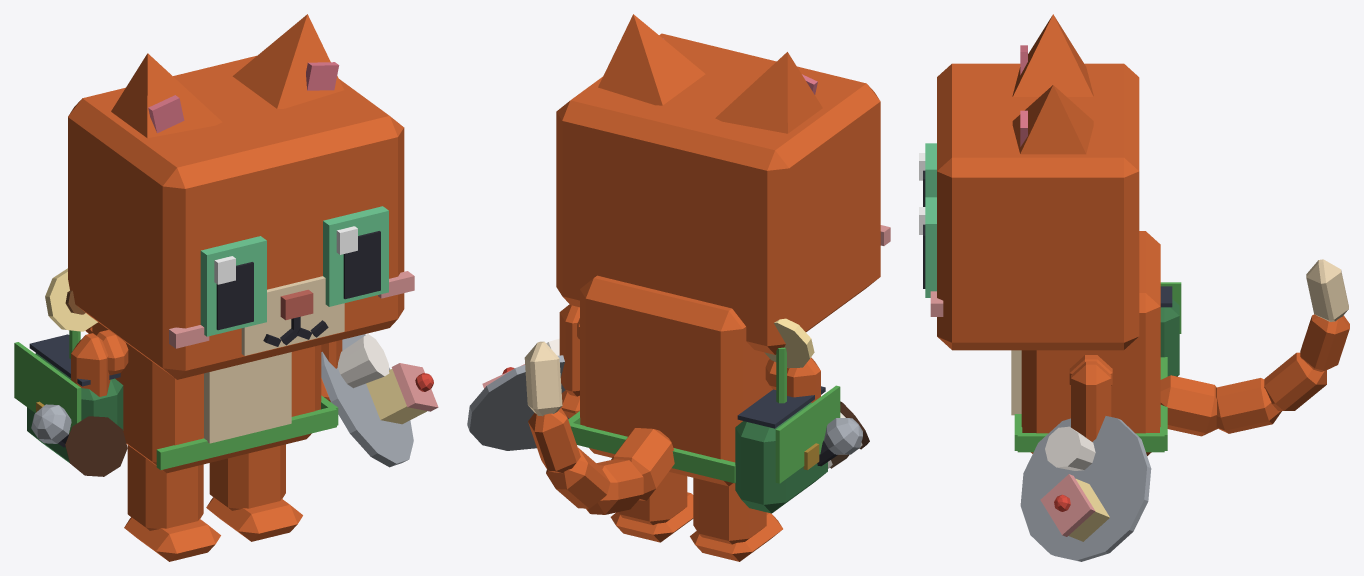
The model's file is CatCafe_Cat_Ginger_Work.fbx.
The picture shows the model from 3 angles, left to right: view 1: azimuth 30°, elevation 25°; view 2: azimuth 150°, elevation 25°; view 3: azimuth 270°, elevation 25°; orthographic projection. The views are drawn at different scales.
Visible parts, largest first — view 1: CatCafe_Cat_Ginger_Work_Head, CatCafe_Cat_Ginger_Work_Body, CatCafe_Cat_Ginger_Work_Held_Waiter, CatCafe_Cat_Ginger_Work_LegB2, CatCafe_Cat_Ginger_Work_LegB1, CatCafe_Cat_Ginger_Work_Eye2, CatCafe_Cat_Ginger_Work_Eye1, CatCafe_Cat_Ginger_Work_EarL, CatCafe_Cat_Ginger_Work_EarR, CatCafe_Cat_Ginger_Work_Held_Barista, CatCafe_Cat_Ginger_Work_LegF2, CatCafe_Cat_Ginger_Work_Held_Entertainer; view 2: CatCafe_Cat_Ginger_Work_Head, CatCafe_Cat_Ginger_Work_Body, CatCafe_Cat_Ginger_Work_Tail, CatCafe_Cat_Ginger_Work_EarL, CatCafe_Cat_Ginger_Work_LegB2, CatCafe_Cat_Ginger_Work_EarR, CatCafe_Cat_Ginger_Work_Held_Waiter, CatCafe_Cat_Ginger_Work_LegB1, CatCafe_Cat_Ginger_Work_LegF1, CatCafe_Cat_Ginger_Work_Held_Entertainer, CatCafe_Cat_Ginger_Work_LegF2; view 3: CatCafe_Cat_Ginger_Work_Head, CatCafe_Cat_Ginger_Work_Body, CatCafe_Cat_Ginger_Work_Held_Waiter, CatCafe_Cat_Ginger_Work_Tail, CatCafe_Cat_Ginger_Work_EarL, CatCafe_Cat_Ginger_Work_EarR, CatCafe_Cat_Ginger_Work_LegF1, CatCafe_Cat_Ginger_Work_Eye1, CatCafe_Cat_Ginger_Work_Eye2.
Part boxes in pixels (x1=…): CatCafe_Cat_Ginger_Work_Head: x1=68, y1=55, x2=414, y2=379; CatCafe_Cat_Ginger_Work_Body: x1=14, y1=268, x2=338, y2=473; CatCafe_Cat_Ginger_Work_Held_Waiter: x1=321, y1=334, x2=438, y2=467; CatCafe_Cat_Ginger_Work_LegB2: x1=124, y1=445, x2=220, y2=561; CatCafe_Cat_Ginger_Work_LegB1: x1=206, y1=444, x2=302, y2=541; CatCafe_Cat_Ginger_Work_Eye2: x1=200, y1=236, x2=266, y2=336; CatCafe_Cat_Ginger_Work_Eye1: x1=323, y1=206, x2=388, y2=306; CatCafe_Cat_Ginger_Work_EarL: x1=232, y1=14, x2=343, y2=108; CatCafe_Cat_Ginger_Work_EarR: x1=111, y1=53, x2=222, y2=138; CatCafe_Cat_Ginger_Work_Held_Barista: x1=65, y1=416, x2=127, y2=476; CatCafe_Cat_Ginger_Work_LegF2: x1=71, y1=333, x2=110, y2=396; CatCafe_Cat_Ginger_Work_Held_Entertainer: x1=31, y1=404, x2=71, y2=447; CatCafe_Cat_Ginger_Work_Head: x1=556, y1=33, x2=890, y2=354; CatCafe_Cat_Ginger_Work_Body: x1=568, y1=275, x2=840, y2=513; CatCafe_Cat_Ginger_Work_Tail: x1=524, y1=341, x2=674, y2=514; CatCafe_Cat_Ginger_Work_EarL: x1=598, y1=14, x2=705, y2=105; CatCafe_Cat_Ginger_Work_LegB2: x1=690, y1=478, x2=782, y2=561; CatCafe_Cat_Ginger_Work_EarR: x1=715, y1=52, x2=822, y2=133; CatCafe_Cat_Ginger_Work_Held_Waiter: x1=467, y1=338, x2=568, y2=450; CatCafe_Cat_Ginger_Work_LegB1: x1=610, y1=472, x2=693, y2=542; CatCafe_Cat_Ginger_Work_LegF1: x1=559, y1=304, x2=579, y2=418; CatCafe_Cat_Ginger_Work_Held_Entertainer: x1=817, y1=418, x2=862, y2=466; CatCafe_Cat_Ginger_Work_LegF2: x1=787, y1=357, x2=820, y2=402; CatCafe_Cat_Ginger_Work_Head: x1=930, y1=63, x2=1139, y2=350; CatCafe_Cat_Ginger_Work_Body: x1=1011, y1=231, x2=1181, y2=455; CatCafe_Cat_Ginger_Work_Held_Waiter: x1=1020, y1=416, x2=1151, y2=561; CatCafe_Cat_Ginger_Work_Tail: x1=1160, y1=259, x2=1349, y2=436; CatCafe_Cat_Ginger_Work_EarL: x1=1012, y1=85, x2=1093, y2=154; CatCafe_Cat_Ginger_Work_EarR: x1=1012, y1=14, x2=1093, y2=96; CatCafe_Cat_Ginger_Work_LegF1: x1=1071, y1=361, x2=1111, y2=441; CatCafe_Cat_Ginger_Work_Eye1: x1=919, y1=197, x2=936, y2=297; CatCafe_Cat_Ginger_Work_Eye2: x1=919, y1=143, x2=936, y2=206.
Size of the model in its own units: 1.53 by 1.93 by 1.62.
1 material, 1 textured.
